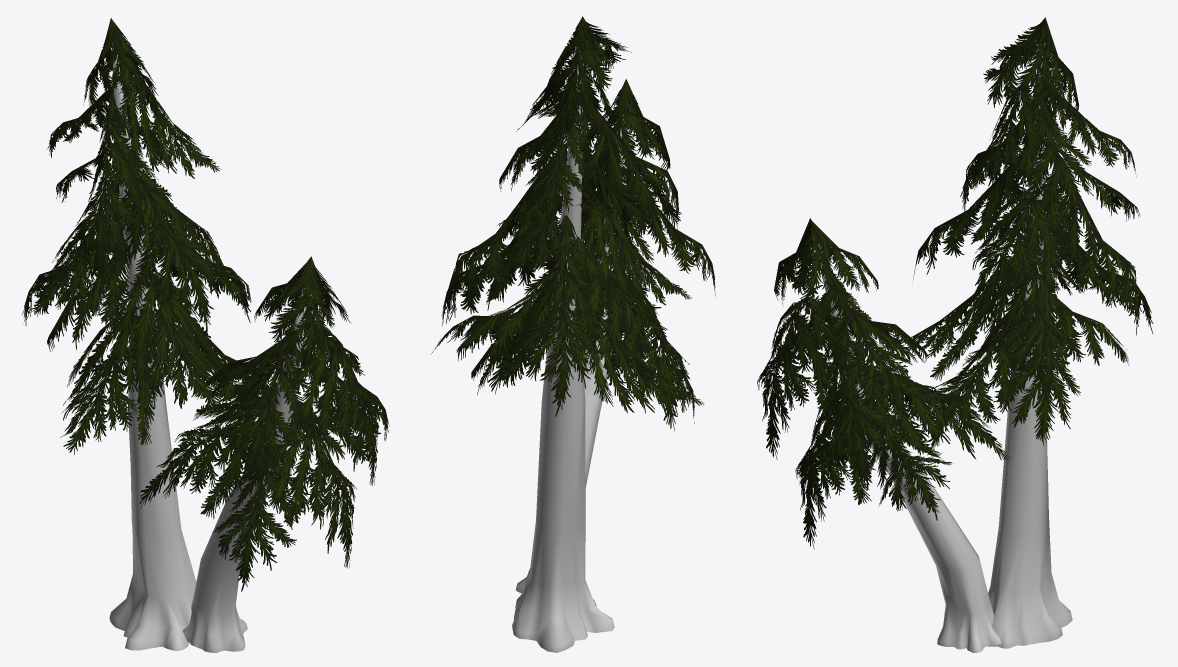
The model's file is spruce_03.fbx.
3 views of the same model, side by side, from view 1: azimuth 30°, elevation 25°; view 2: azimuth 150°, elevation 25°; view 3: azimuth 270°, elevation 25° (orthographic). The views are drawn at different scales.
Visible parts, largest first — view 1: Spruce_3_LOD0; view 2: Spruce_3_LOD0; view 3: Spruce_3_LOD0.
Part boxes in pixels (x1,y1,x2,y2): Spruce_3_LOD0: (22,18,389,652); Spruce_3_LOD0: (431,16,715,652); Spruce_3_LOD0: (757,17,1153,652).
Size of what is drawn, in the model's own units: 3.63 by 6.96 by 4.38.
